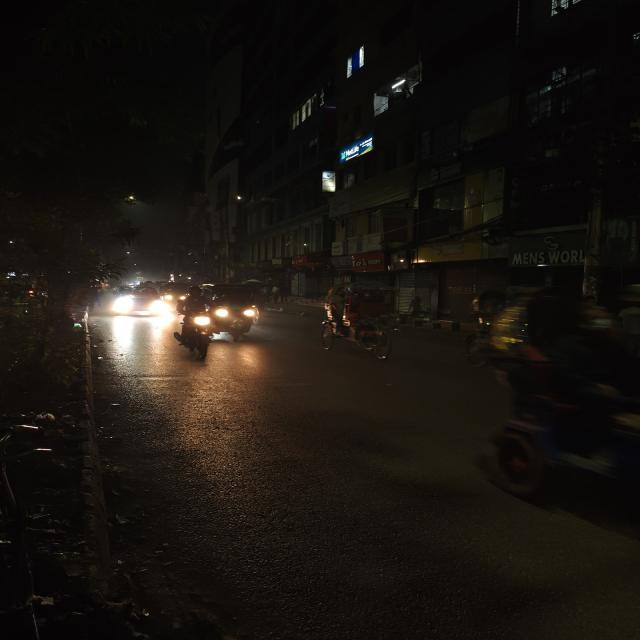car: (108, 281, 168, 318)
cng: (212, 279, 269, 339)
motorcycle: (174, 287, 215, 358)
rickshaw: (307, 282, 406, 362)
